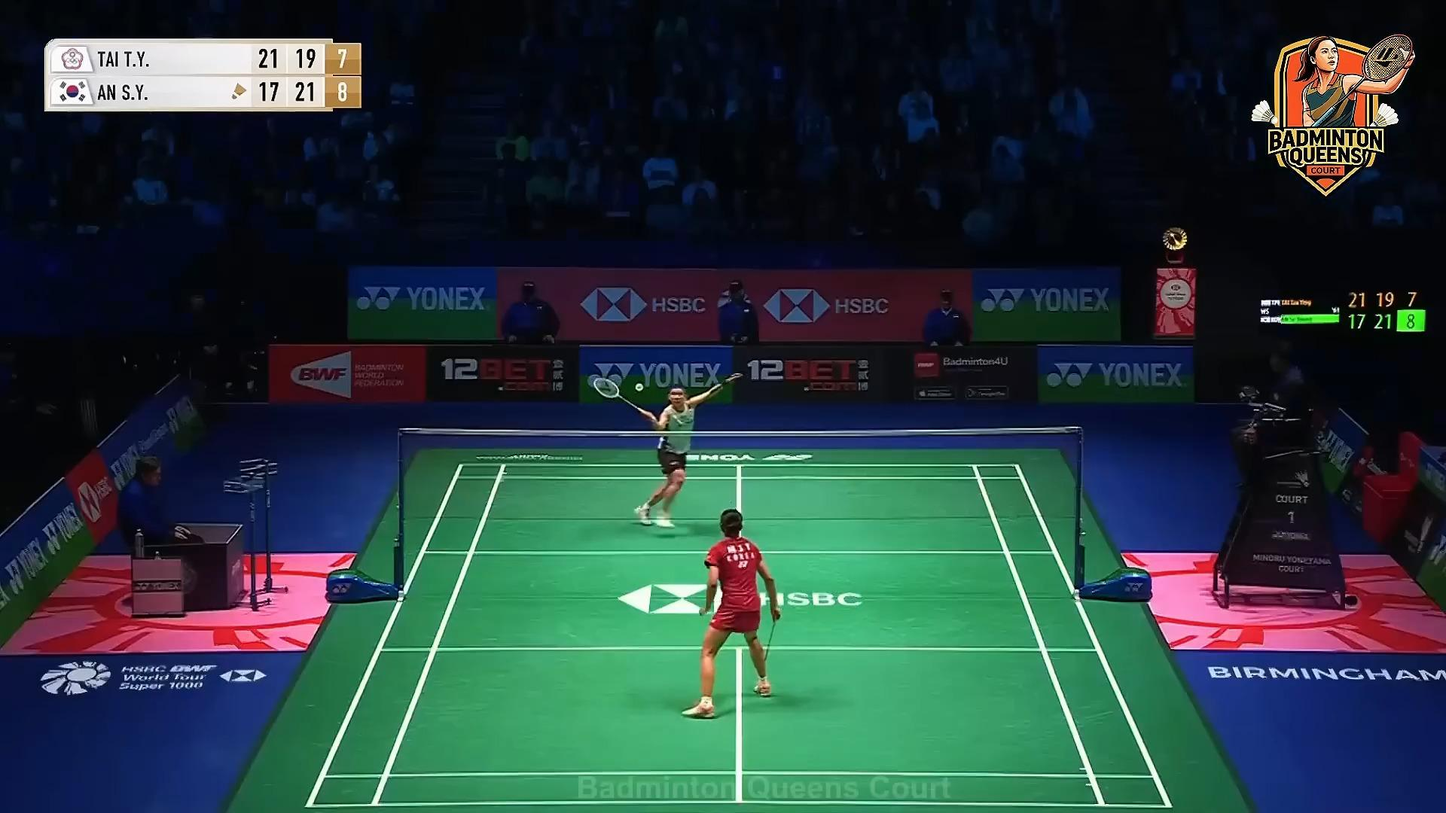player: (683, 509, 782, 720), (634, 382, 722, 531)
shuttlecock: (635, 383, 644, 392)
